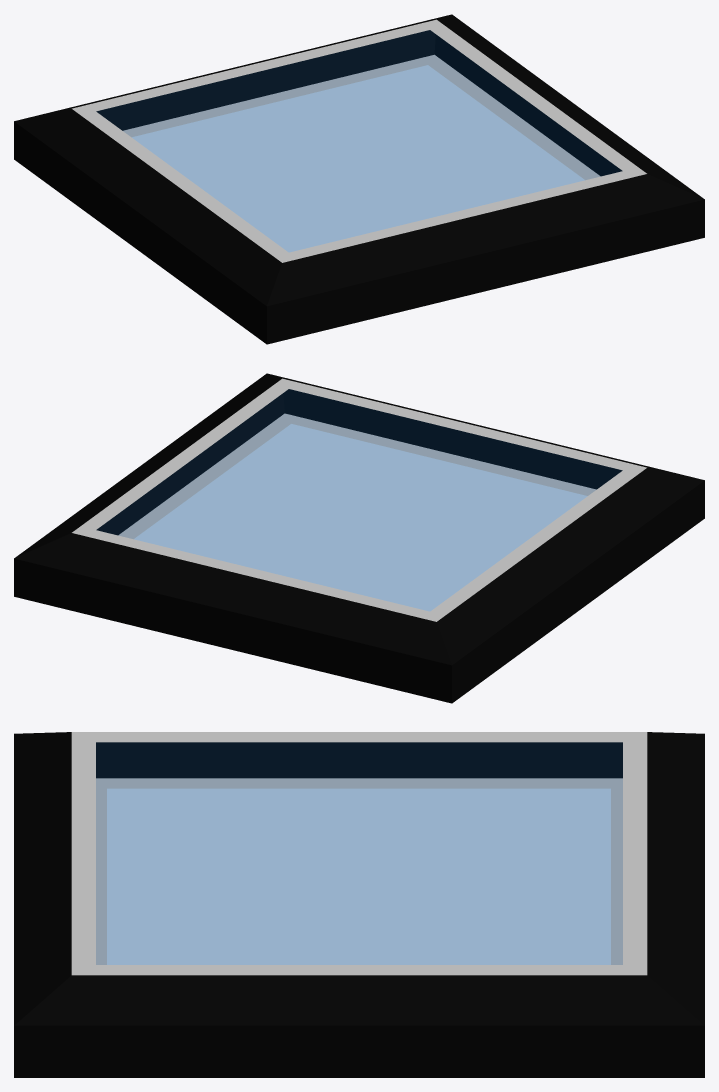
The model's file is Roof_Simple_Top_02.FBX.
3 views of the same model, one above another, from view 1: azimuth 30°, elevation 25°; view 2: azimuth 150°, elevation 25°; view 3: azimuth 270°, elevation 25° (orthographic). The views are drawn at different scales.
Parts seen in each view (by area): view 1: Roof_Simple_Top_02; view 2: Roof_Simple_Top_02; view 3: Roof_Simple_Top_02.
Boxes of the visible parts, x1,y1,x2,y2 form: Roof_Simple_Top_02: (14, 14, 704, 344); Roof_Simple_Top_02: (14, 373, 704, 703); Roof_Simple_Top_02: (14, 732, 704, 1077).
Bounding box in the file's own units: 6 × 0.75 × 6.
